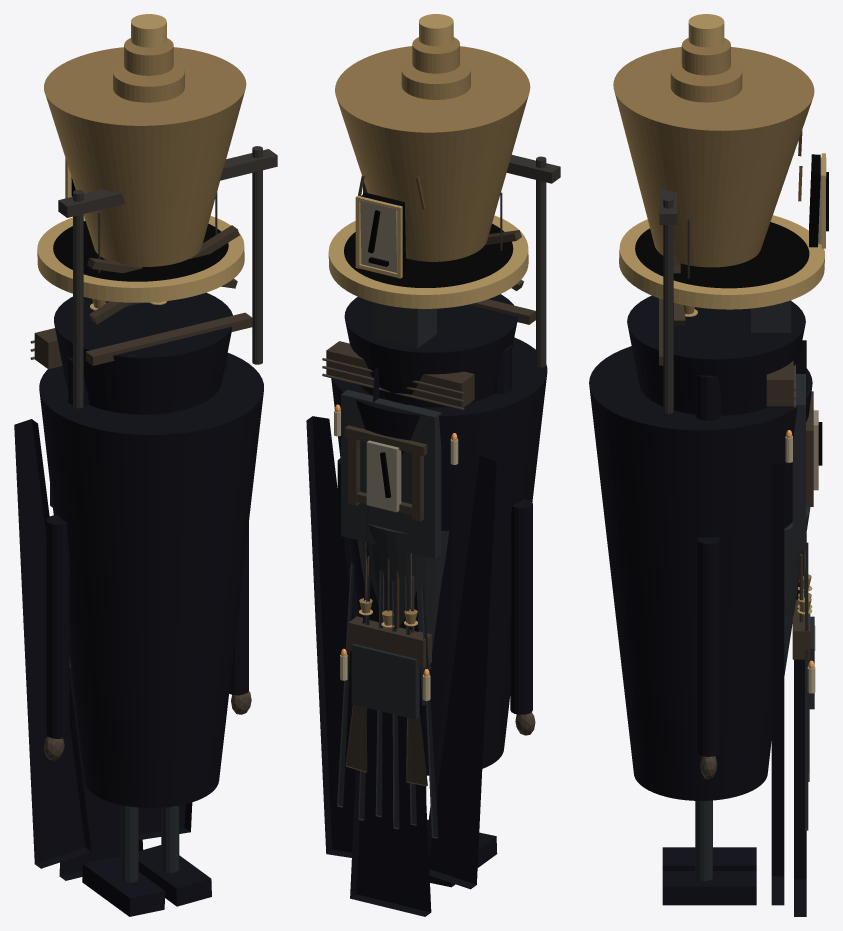
Rendered from bell_saint_v6f_connected_silhouette.glb.
3 views of the same model, side by side, from view 1: azimuth 30°, elevation 25°; view 2: azimuth 150°, elevation 25°; view 3: azimuth 270°, elevation 25° (orthographic). The views are drawn at different scales.
Parts seen in each view (by area): view 1: BS6F_MainRobe_Continuous, BS6F_BellHead_Main, BS6F_UpperChest_Connected, BS6F_LeftSideRobe, BS6F_BellHeadOuterLip, BS6F_LeftForeSleeve, BS6F_BellHeadInnerLipShadow, BS6F_FrontCentralPanel, BS6F_LeftFoot, BS6F_RightFoot, BS6F_BackRightPost, BS6F_BackLeftPost (+12 smaller); view 2: BS6F_BellHead_Main, BS6F_MainRobe_Continuous, BS6F_LeftSideRobe, BS6F_RightSideRobe, BS6F_FrontCentralPanel, BS6F_UpperChest_Connected, BS6F_IntegratedChestCover, BS6F_BellHeadOuterLip, BS6F_InnerShadow, BS6F_LeftForeSleeve, BS6F_LowerAltarFrontPlate, BS6F_BellHeadInnerLipShadow (+25 smaller); view 3: BS6F_MainRobe_Continuous, BS6F_BellHead_Main, BS6F_UpperChest_Connected, BS6F_RightSideRobe, BS6F_BellHeadOuterLip, BS6F_RightForeSleeve, BS6F_BellHeadInnerLipShadow, BS6F_FrontCentralPanel, BS6F_RightFoot, BS6F_IntegratedChestCover, BS6F_BackRightPost, BS6F_BellCrownBase (+13 smaller).
Boxes of the visible parts, bbox=[...] form: BS6F_MainRobe_Continuous: bbox=[39, 353, 263, 807]; BS6F_BellHead_Main: bbox=[44, 47, 246, 266]; BS6F_UpperChest_Connected: bbox=[54, 292, 232, 414]; BS6F_LeftSideRobe: bbox=[14, 419, 91, 868]; BS6F_BellHeadOuterLip: bbox=[37, 215, 244, 302]; BS6F_LeftForeSleeve: bbox=[46, 515, 69, 738]; BS6F_BellHeadInnerLipShadow: bbox=[53, 221, 228, 281]; BS6F_FrontCentralPanel: bbox=[59, 668, 143, 880]; BS6F_LeftFoot: bbox=[82, 856, 165, 916]; BS6F_RightFoot: bbox=[138, 845, 211, 906]; BS6F_BackRightPost: bbox=[252, 146, 262, 364]; BS6F_BackLeftPost: bbox=[73, 190, 83, 408]; BS6F_BellHead_Main: bbox=[335, 46, 530, 261]; BS6F_MainRobe_Continuous: bbox=[331, 337, 547, 775]; BS6F_LeftSideRobe: bbox=[427, 455, 496, 889]; BS6F_RightSideRobe: bbox=[306, 416, 355, 857]; BS6F_FrontCentralPanel: bbox=[350, 367, 431, 916]; BS6F_UpperChest_Connected: bbox=[344, 294, 517, 407]; BS6F_IntegratedChestCover: bbox=[341, 389, 441, 558]; BS6F_BellHeadOuterLip: bbox=[328, 215, 528, 308]; BS6F_InnerShadow: bbox=[357, 524, 449, 705]; BS6F_LeftForeSleeve: bbox=[510, 499, 532, 714]; BS6F_LowerAltarFrontPlate: bbox=[351, 643, 419, 719]; BS6F_BellHeadInnerLipShadow: bbox=[344, 223, 513, 287]; BS6F_MainRobe_Continuous: bbox=[589, 346, 812, 800]; BS6F_BellHead_Main: bbox=[613, 47, 814, 267]; BS6F_UpperChest_Connected: bbox=[627, 295, 805, 415]; BS6F_RightSideRobe: bbox=[771, 463, 784, 905]; BS6F_BellHeadOuterLip: bbox=[619, 215, 824, 309]; BS6F_RightForeSleeve: bbox=[697, 537, 719, 756]; BS6F_BellHeadInnerLipShadow: bbox=[635, 222, 809, 288]; BS6F_FrontCentralPanel: bbox=[794, 340, 806, 916]; BS6F_RightFoot: bbox=[662, 871, 756, 905]; BS6F_IntegratedChestCover: bbox=[792, 374, 805, 550]; BS6F_BackRightPost: bbox=[663, 196, 673, 413]; BS6F_BellCrownBase: bbox=[670, 60, 742, 102].
Size of the model in its own units: 1.08 by 4.33 by 1.07.
